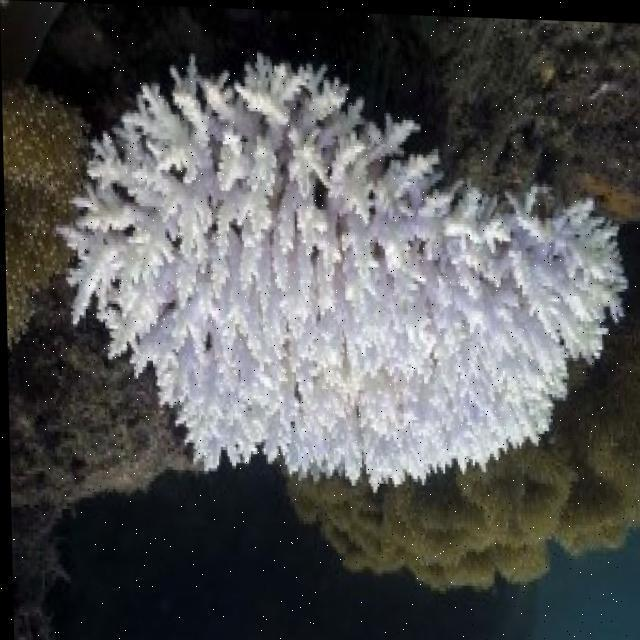Bleached Coral: (47, 44, 619, 500)
